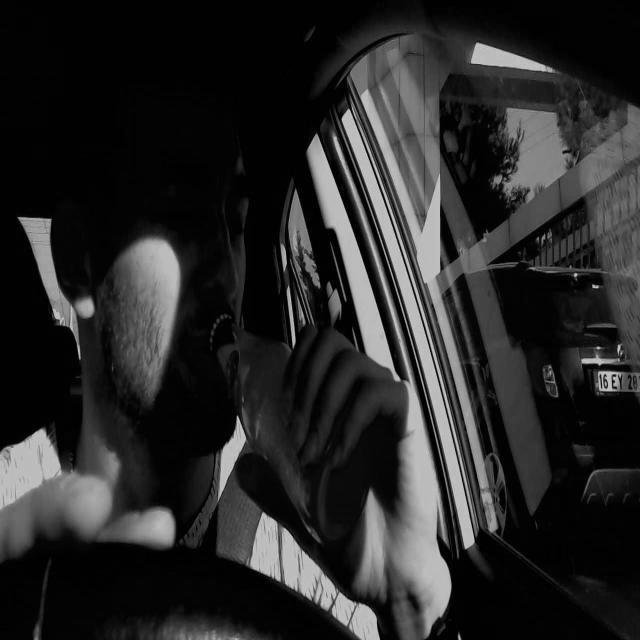Drinking: (206, 299, 384, 548)
